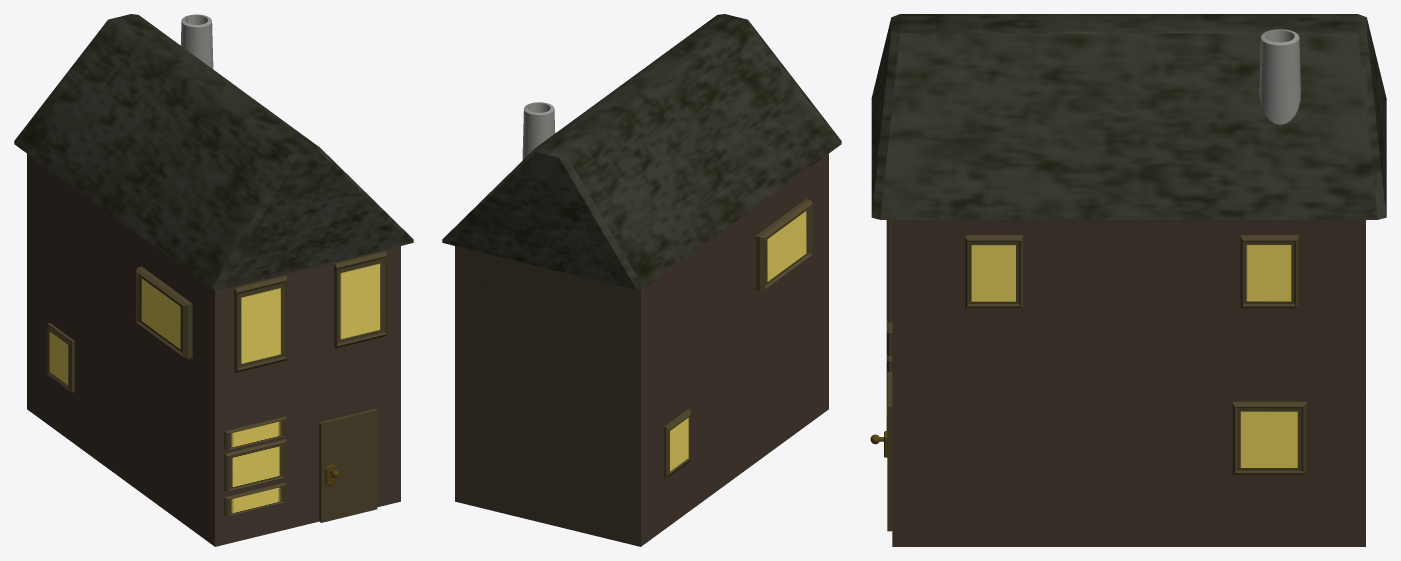
File: House3_export.FBX
3 renders of one model, left to right at view 1: azimuth 30°, elevation 25°; view 2: azimuth 150°, elevation 25°; view 3: azimuth 270°, elevation 25°, orthographic. The views are drawn at different scales.
Visible parts, largest first — view 1: roof003; view 2: roof003; view 3: roof003.
Part boxes in pixels (bbox=[...]): roof003: bbox=[14, 14, 413, 546]; roof003: bbox=[442, 14, 841, 546]; roof003: bbox=[870, 14, 1386, 546].
Size of the model in its own units: 55.78 by 101 by 98.02.
